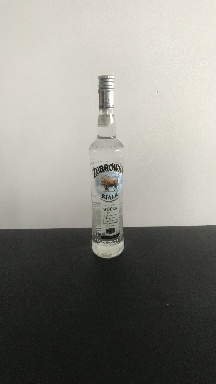butelka: (87, 72, 125, 261)
